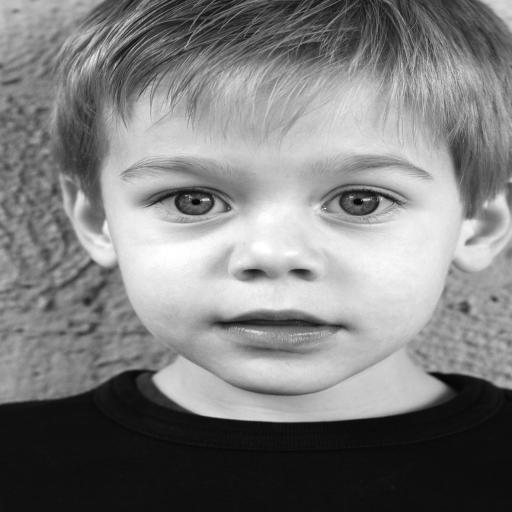Autism: (15, 8, 512, 468)
